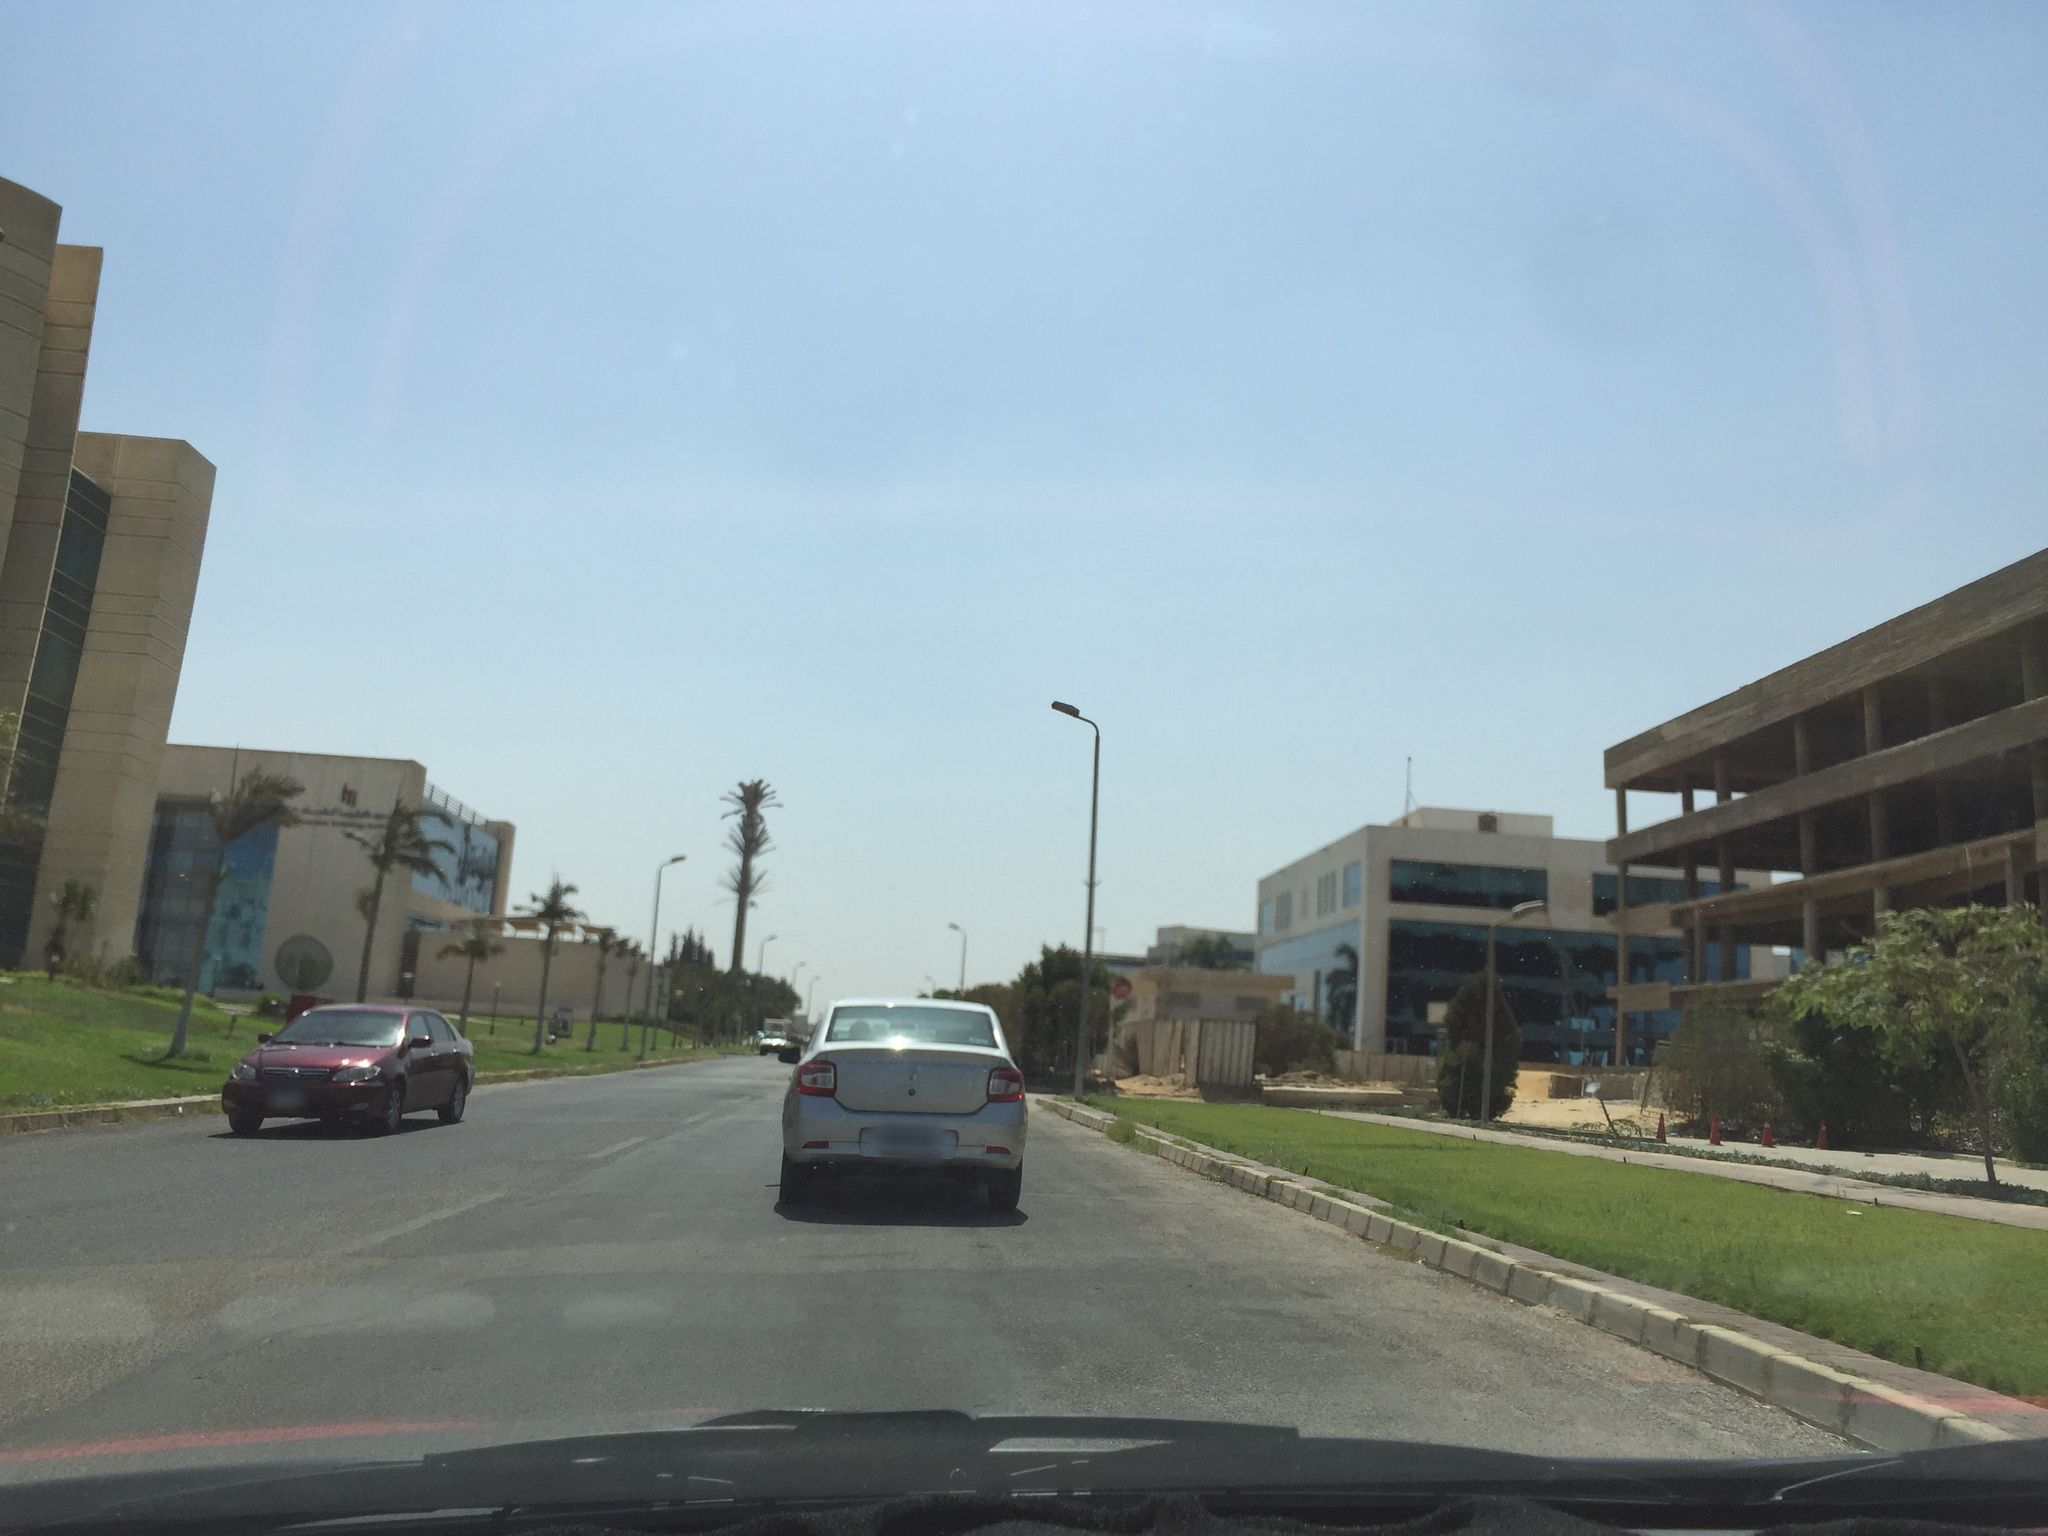car: (766, 995, 1030, 1217), (218, 1000, 476, 1133)
